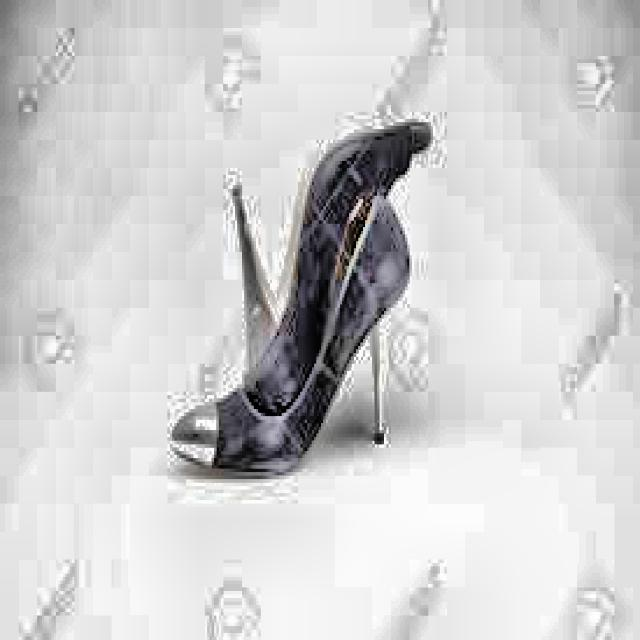shoes: (165, 113, 434, 472)
